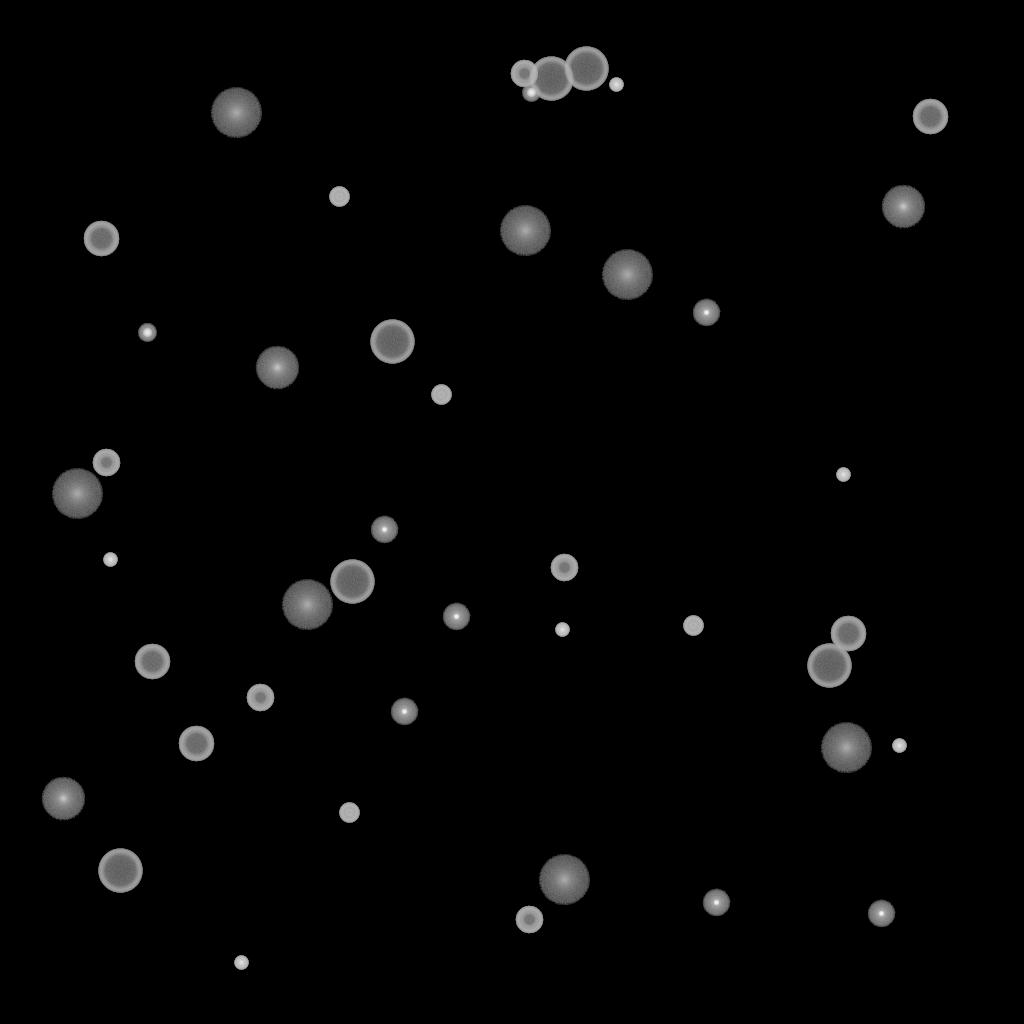depth:-10: (390, 698, 418, 726), (370, 516, 398, 544), (702, 889, 730, 917), (867, 900, 895, 928), (442, 603, 470, 631), (692, 299, 720, 327)
depth:-20: (138, 324, 156, 342), (522, 84, 540, 102)
depth:-30: (234, 956, 248, 970), (892, 739, 906, 753), (555, 623, 569, 637), (103, 553, 117, 567), (609, 78, 623, 92), (836, 468, 850, 482)
depth:-40: (431, 385, 451, 405), (339, 803, 359, 823), (683, 616, 703, 636), (329, 187, 349, 207)
depth:-50: (246, 684, 274, 712), (515, 906, 543, 934), (92, 449, 120, 477), (550, 554, 578, 582), (510, 60, 538, 88)
depth:-60: (178, 726, 214, 762), (134, 644, 170, 680), (912, 99, 948, 135), (830, 616, 866, 652), (83, 221, 119, 257)
depth:-70: (807, 644, 851, 688), (330, 560, 374, 604), (529, 57, 573, 101), (98, 849, 142, 893), (370, 320, 414, 364), (564, 47, 608, 91)
depth:10: (41, 777, 85, 821), (255, 346, 299, 390), (881, 185, 925, 229)
depth:20: (538, 855, 590, 905), (499, 206, 551, 256), (51, 469, 103, 519), (281, 580, 333, 630), (601, 250, 653, 300), (210, 88, 262, 138), (820, 723, 872, 773)
